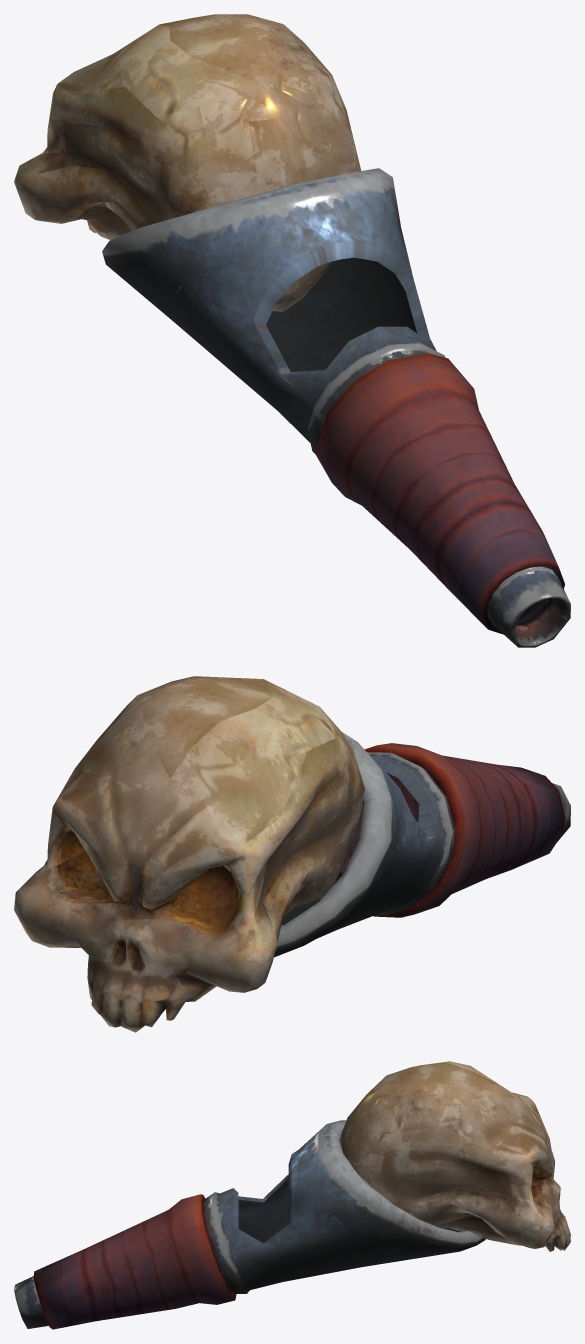
Rendered from düdük.fbx.
3 views of the same model, one above another, from view 1: azimuth 30°, elevation 25°; view 2: azimuth 150°, elevation 25°; view 3: azimuth 270°, elevation 25° (orthographic). The views are drawn at different scales.
Parts seen in each view (by area): view 1: duduk; view 2: duduk; view 3: duduk.
Part boxes in pixels (bbox=[...]): duduk: bbox=[14, 14, 570, 647]; duduk: bbox=[14, 676, 570, 1032]; duduk: bbox=[14, 1061, 570, 1329].
Bounding box in the file's own units: 9.07 × 12.8 × 25.77.
